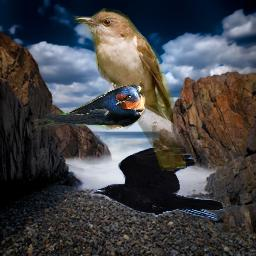Crow: (92, 147, 224, 221)
Cuckoo: (73, 8, 186, 171)
Swallow: (32, 84, 146, 130)
